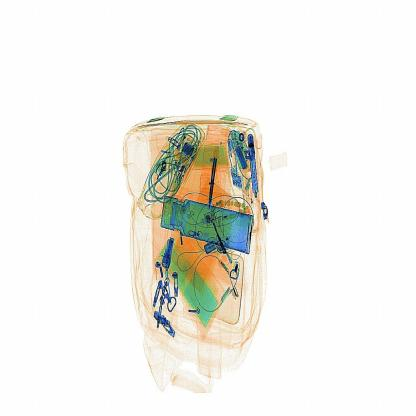gun: (201, 134, 227, 217)
